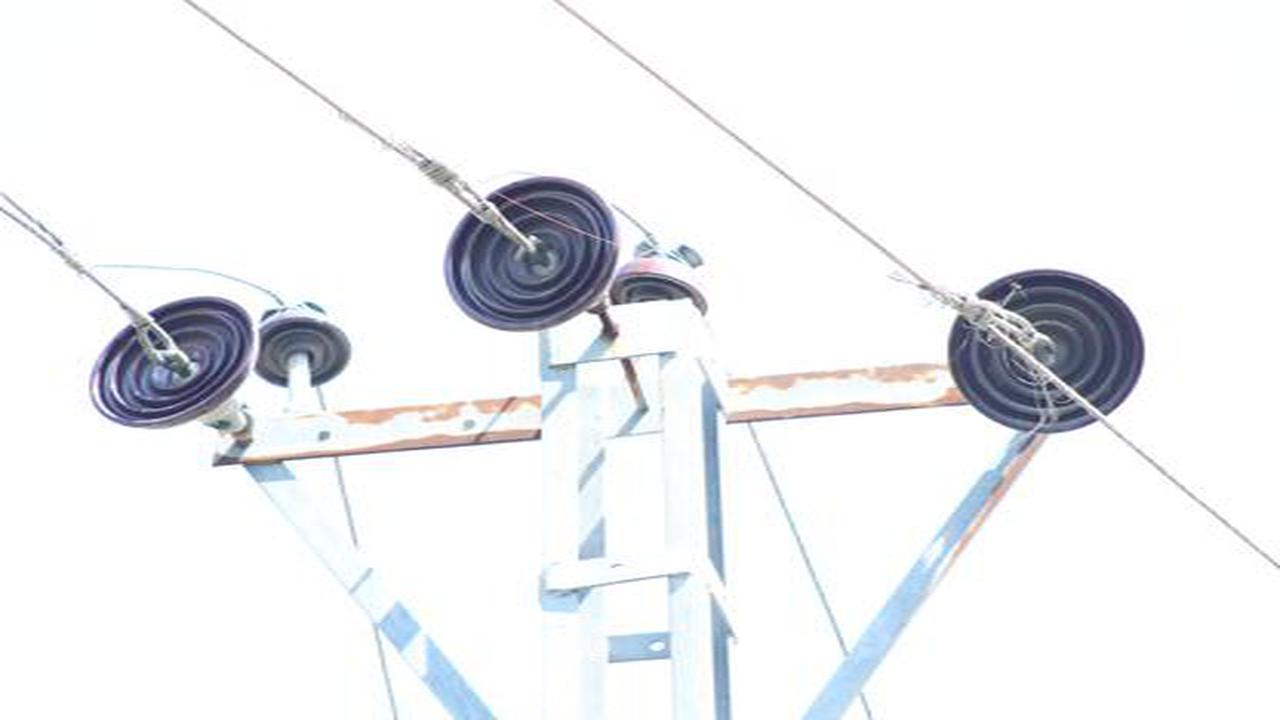insulator_disc: (942, 264, 1151, 440), (440, 172, 618, 325), (81, 289, 253, 428)
insulator_pin: (256, 295, 354, 385), (620, 227, 708, 317)
